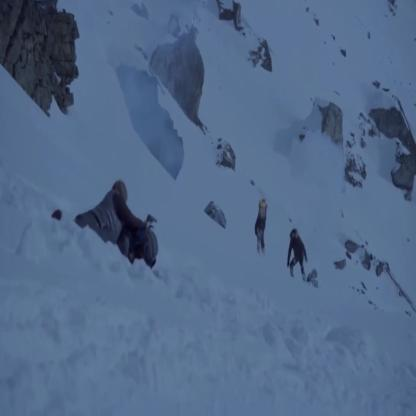gun: (146, 213, 163, 234)
